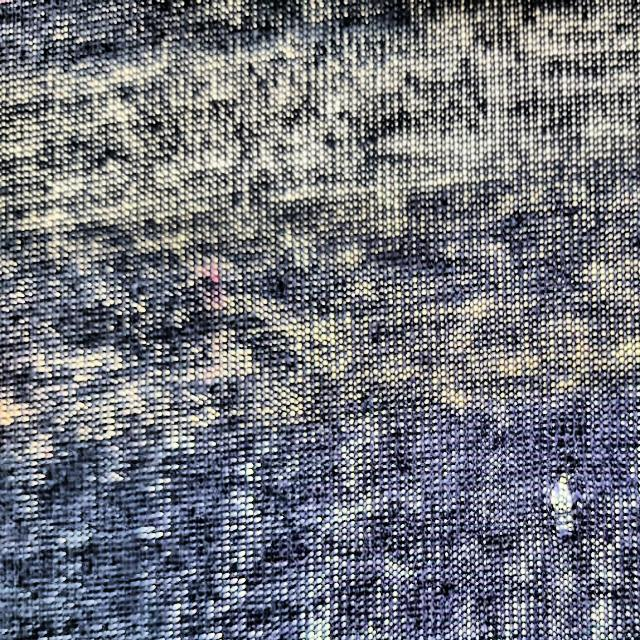Hole: (536, 460, 587, 549)
